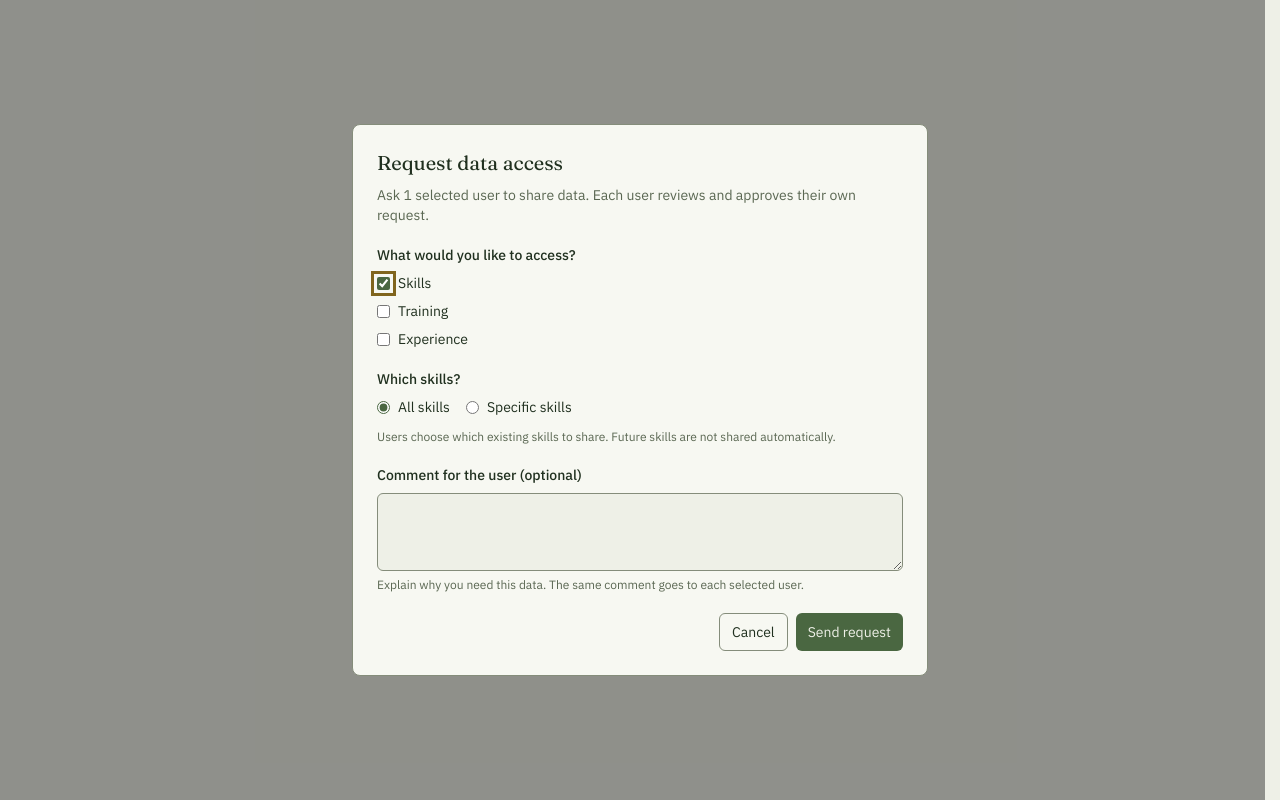
Test: keeps the request form available after a send failure
Click the button "Send request" at coordinates (849, 632), box x1=796 y1=613 x2=903 y2=651
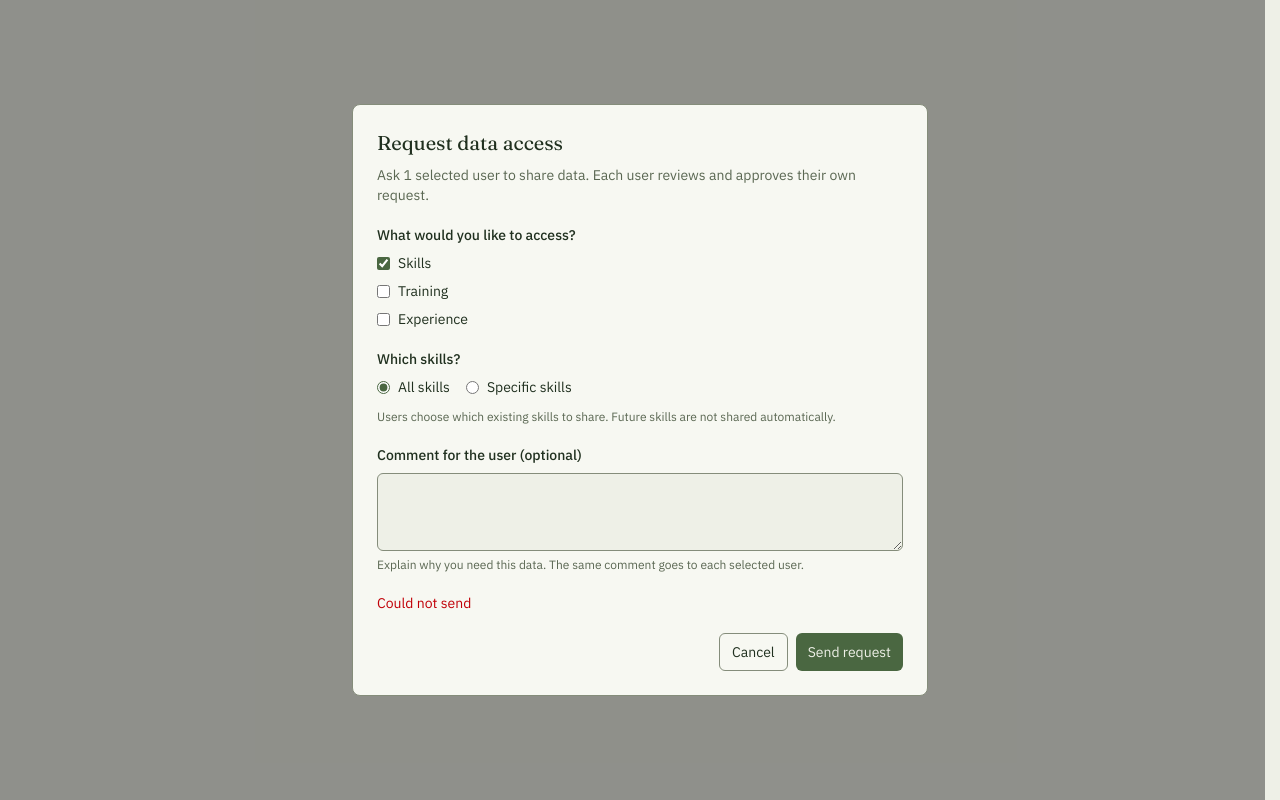
Check: the button "Send request" is enabled, box x1=796 y1=633 x2=903 y2=671
Check: the message reads "Could not send", box x1=377 y1=594 x2=471 y2=612
